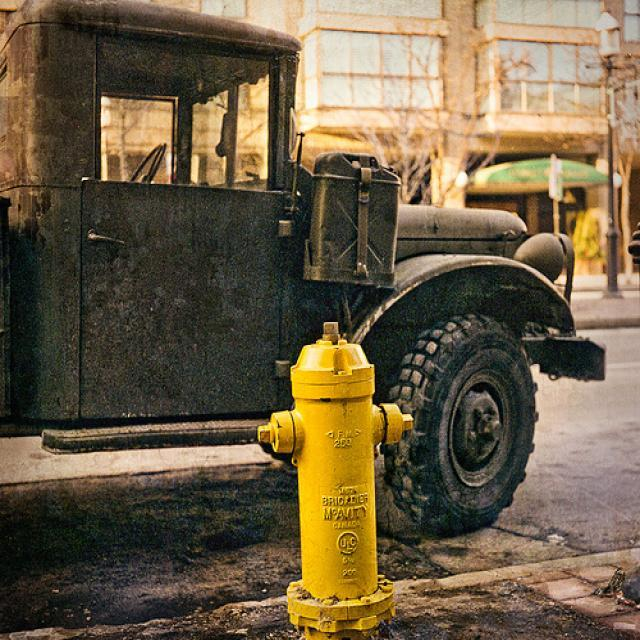fire_hydrant: (260, 322, 407, 631)
